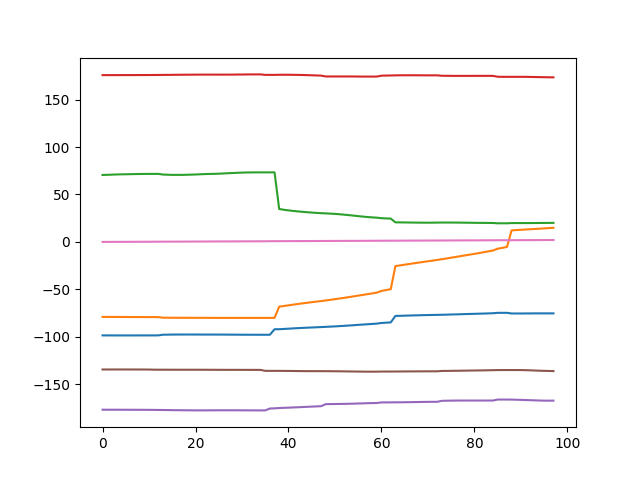Good_Bicep_Curl_Down: (1, 1, 640, 465)
